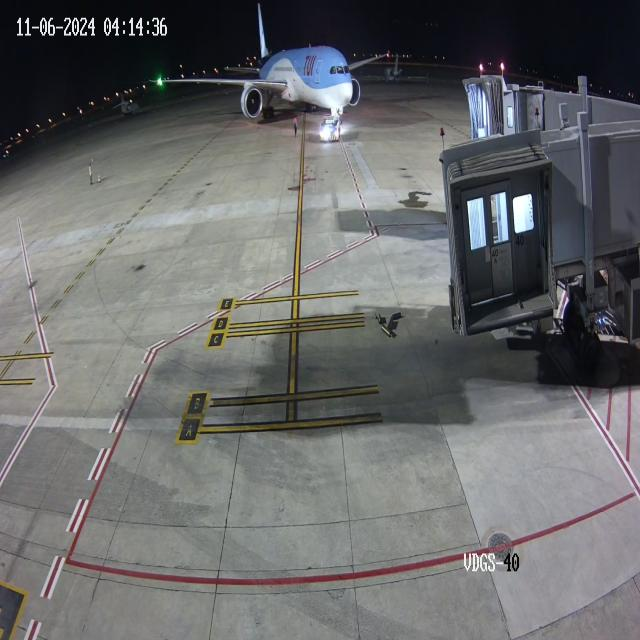bridge: (487, 73, 545, 136)
plane: (138, 1, 393, 143)
window: (328, 61, 351, 76)
